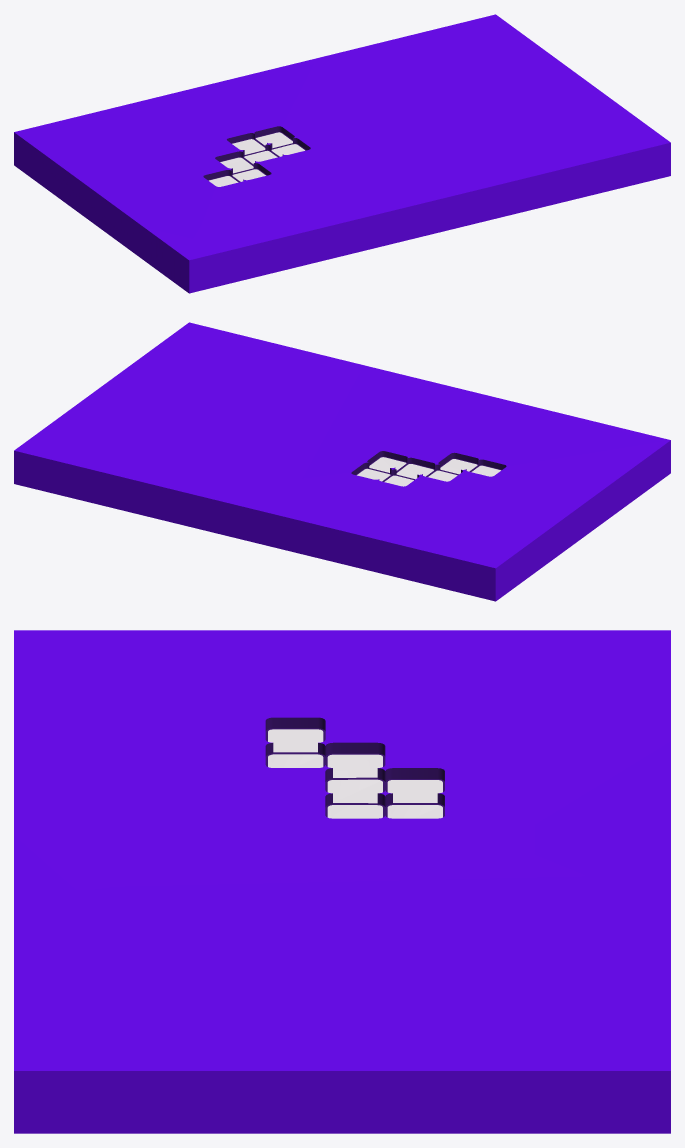
Rendered from level8.fbx.
3 views of the same model, one above another, from view 1: azimuth 30°, elevation 25°; view 2: azimuth 150°, elevation 25°; view 3: azimuth 270°, elevation 25° (orthographic). The views are drawn at different scales.
Visible parts, largest first — view 1: Ground.011; view 2: Ground.011; view 3: Ground.011.
Boxes of the visible parts, left/top/right/bottom form: Ground.011: left=14, top=14, right=670, bottom=293; Ground.011: left=14, top=322, right=670, bottom=601; Ground.011: left=14, top=630, right=670, bottom=1133.
Size of the model in its own units: 7326 by 486 by 4613.
